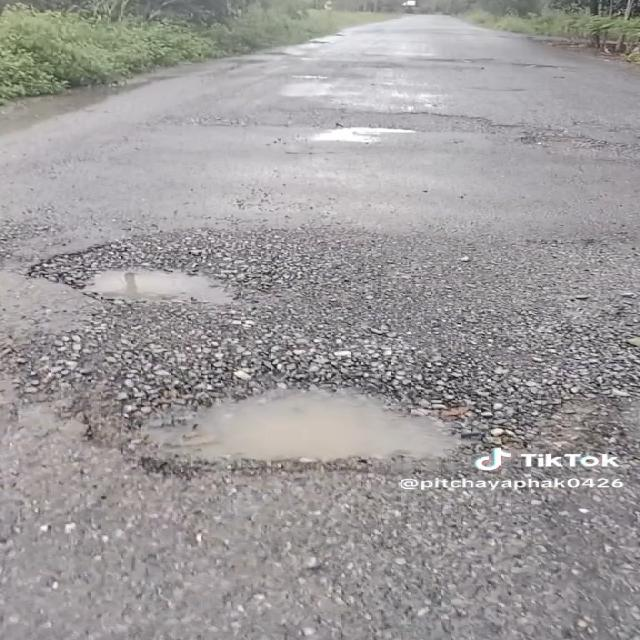Poth-hole: (43, 195, 259, 335)
